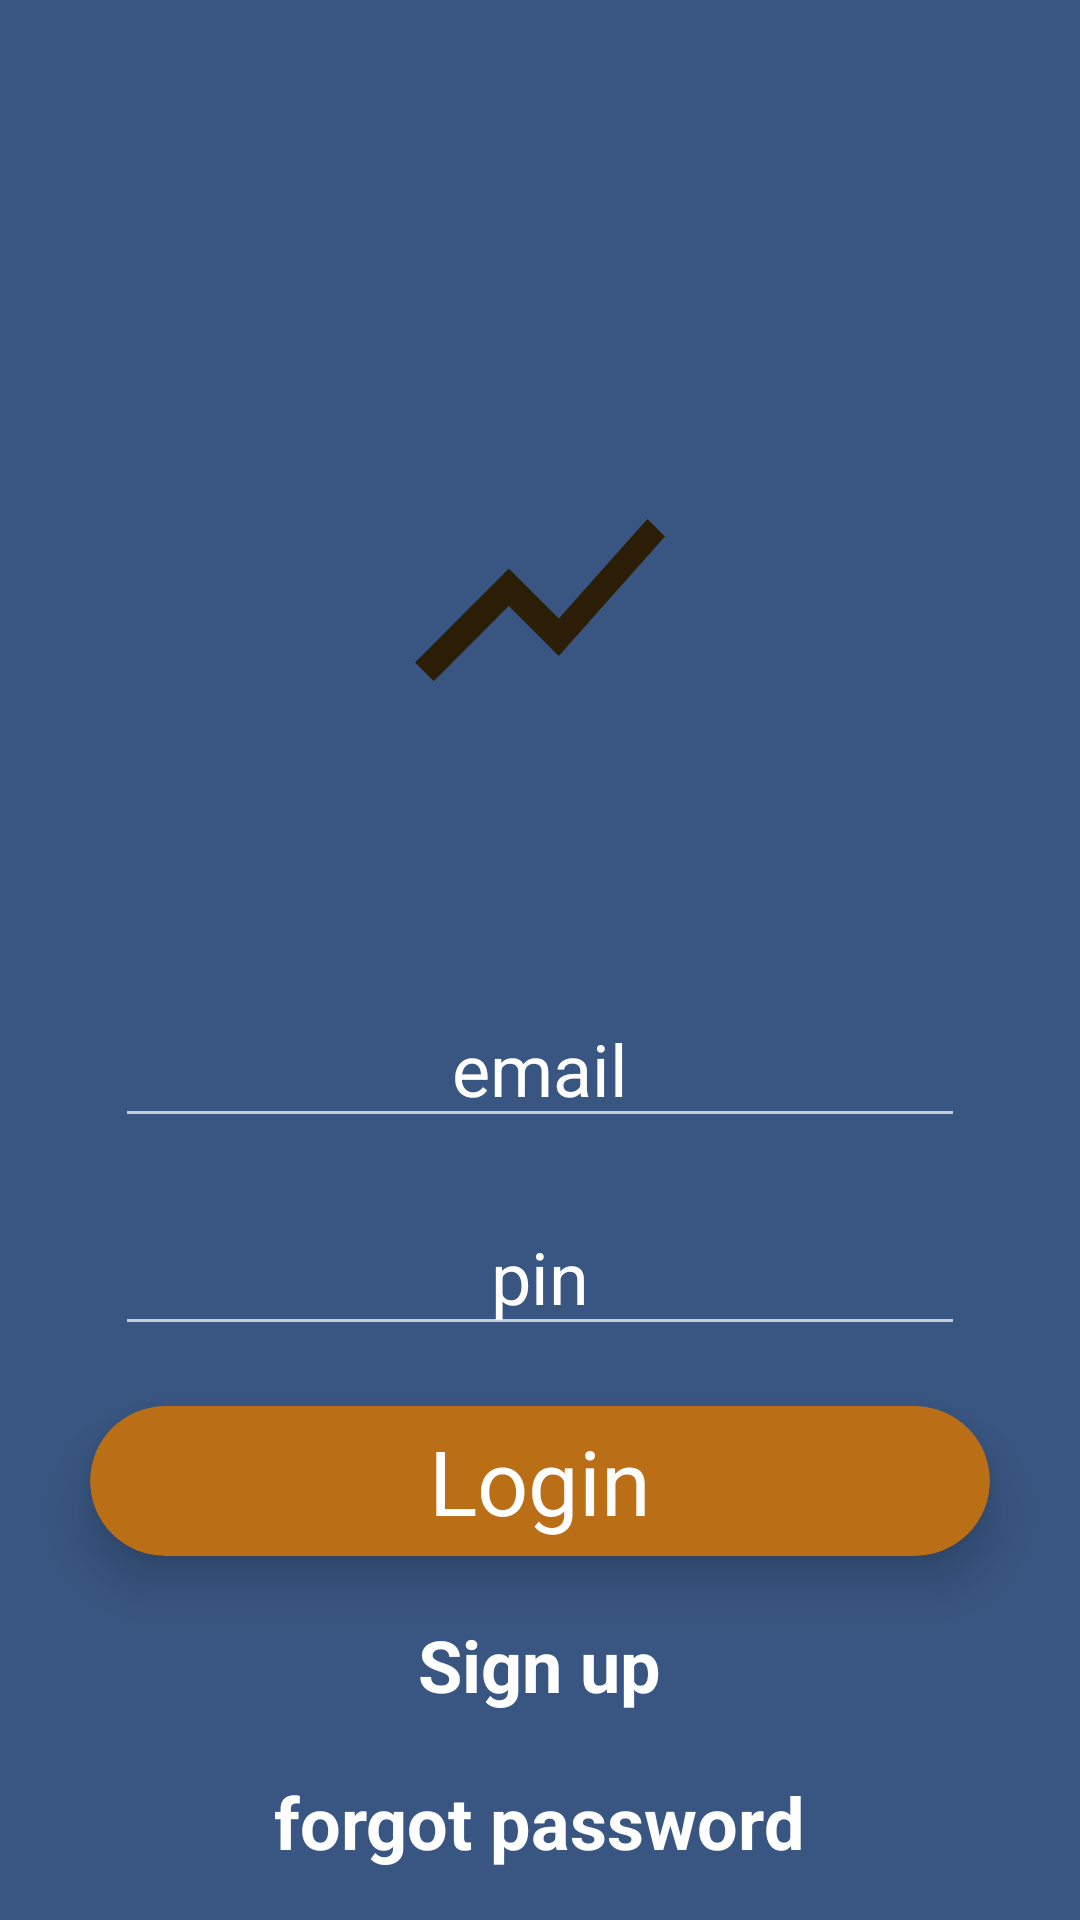

Icon click points for this 1080 x 1920 phone screenshot, format point (x, y):
show chart: point (540, 600)
